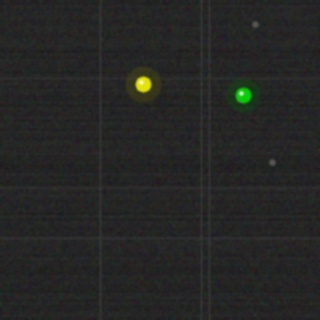green_normal: (233, 85, 253, 105)
yellow_warning: (133, 74, 153, 94)
